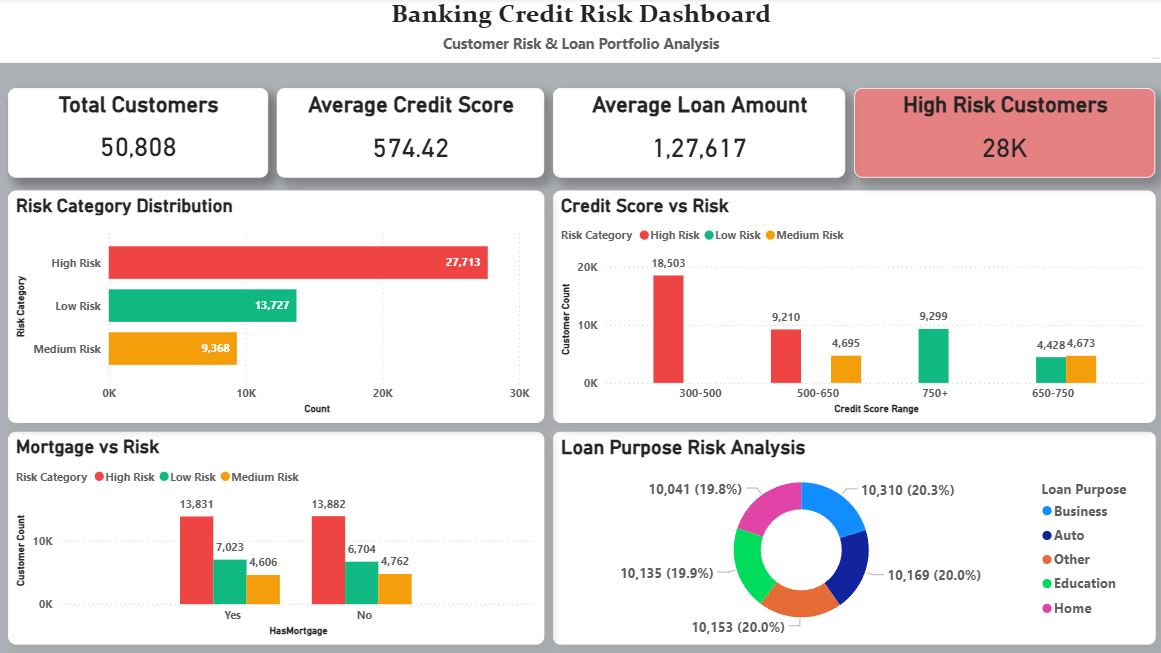

The page's visual inventory and layout, read from the dashboard file:
{"tool":"powerbi","page":{"name":"Page 1","canvas":[1280,720],"ordinal":0},"visuals":[{"type":"card","title":"Total Customers","fields":{"Values":["CountNonNull(credit_risk loan_data.LoanID)"]},"box":[11,98.8,285.4,98.8],"z":0},{"type":"card","title":"Average Credit Score","fields":{"Values":["Avg(credit_risk loan_data.CreditScore)"]},"box":[306,98.8,293.7,98.8],"z":1000},{"type":"card","title":"Average Loan Amount","fields":{"Values":["Avg(credit_risk loan_data.LoanAmount)"]},"box":[609.3,98.8,321.1,98.8],"z":2000},{"type":"donutChart","title":"Loan Purpose Risk Analysis","fields":{"Y":["CountNonNull(credit_risk loan_data.LoanID)"],"Category":["credit_risk loan_data.LoanPurpose"]},"box":[609.3,476.2,661.4,233.3],"z":3000},{"type":"clusteredColumnChart","title":"Credit Score vs Risk","fields":{"Y":["CountNonNull(credit_risk loan_data.Customer Count)"],"Category":["credit_risk loan_data.Credit Score Range"],"Series":["credit_risk loan_data.Risk Category"]},"box":[609.3,211.3,661.4,255.2],"z":4000},{"type":"clusteredColumnChart","title":"Mortgage vs Risk ","fields":{"Category":["credit_risk loan_data.HasMortgage"],"Y":["CountNonNull(credit_risk loan_data.Customer Count)"],"Series":["credit_risk loan_data.Risk Category"]},"box":[11,476.2,588.7,233.3],"z":5000},{"type":"card","title":"High Risk Customers","fields":{"Values":["credit_risk loan_data.High Risk Customers"]},"box":[940,98.8,330.7,98.8],"z":6000},{"type":"clusteredBarChart","title":"Risk Category Distribution","fields":{"Category":["credit_risk loan_data.Risk Category"],"Y":["CountNonNull(credit_risk loan_data.LoanID)"]},"box":[11,211.3,588.7,255.2],"z":7000},{"type":"textbox","title":"Banking Credit Risk Dashboard","box":[0,0,1280.3,71.4],"z":8000}]}

Visuals, with their boxes in screenshot pixels (x1, y1, x2, y2), scaled from the page's 1280x720 canvas onto the 1161x653 screenshot:
"Total Customers" card: [10,90,269,179]
"Average Credit Score" card: [278,90,544,179]
"Average Loan Amount" card: [553,90,844,179]
"Loan Purpose Risk Analysis" donutChart: [553,432,1153,643]
"Credit Score vs Risk" clusteredColumnChart: [553,192,1153,423]
"Mortgage vs Risk " clusteredColumnChart: [10,432,544,643]
"High Risk Customers" card: [853,90,1153,179]
"Risk Category Distribution" clusteredBarChart: [10,192,544,423]
"Banking Credit Risk Dashboard" textbox: [0,0,1160,65]
